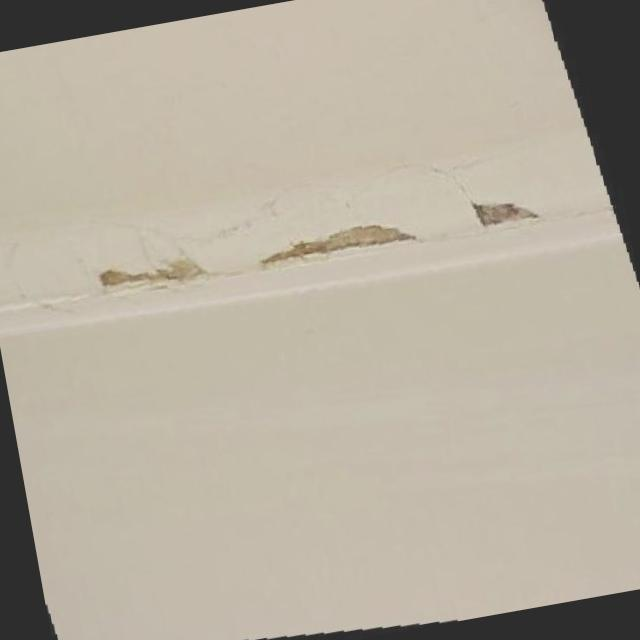crack: (273, 231, 445, 270), (85, 211, 202, 256), (204, 192, 290, 239), (425, 155, 485, 206)
